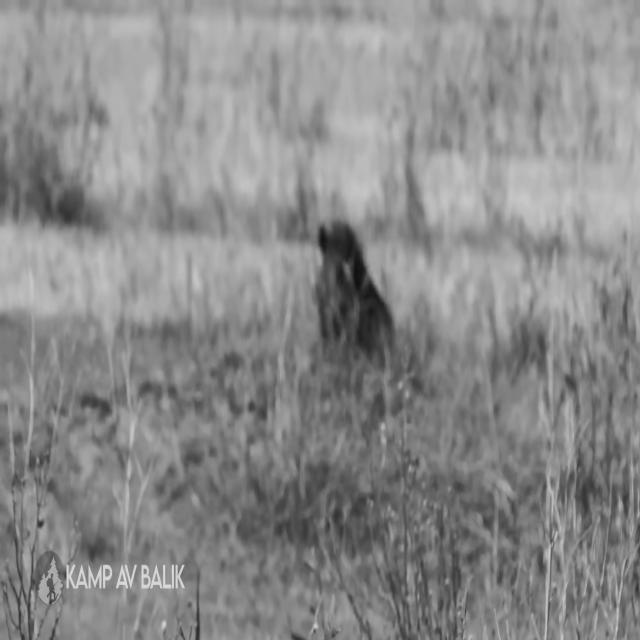boar: (317, 222, 393, 353)
